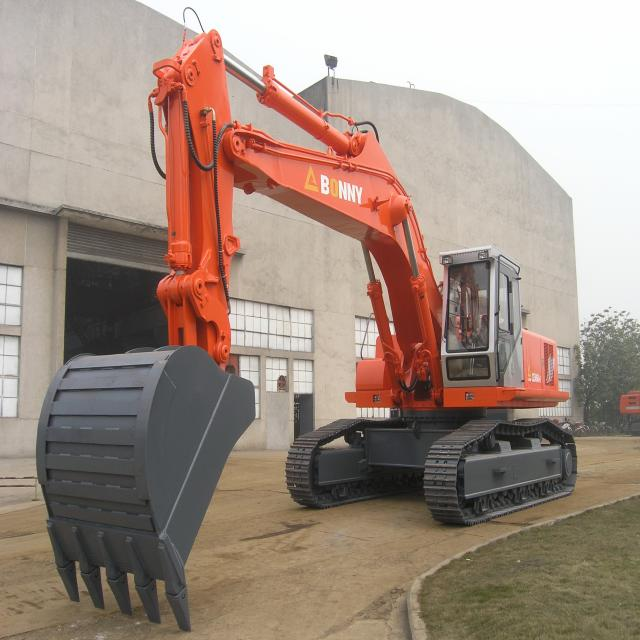excavator: (19, 15, 588, 624)
